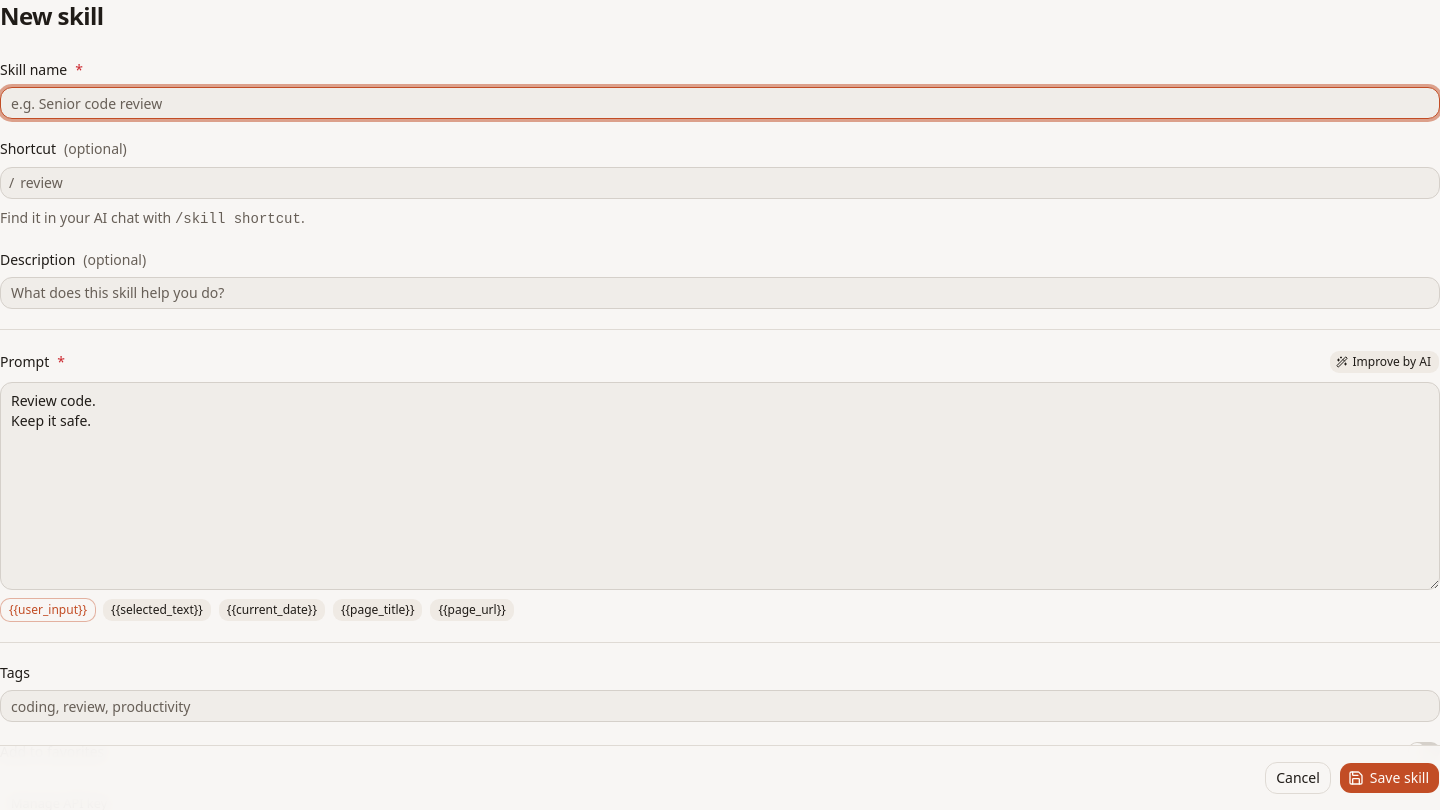
Scenario: Improve by AI editor flow › previews without mutating or saving, then applies only when requested
Click the button "Improve by AI": (1385, 362) [1330, 350, 1439, 374]
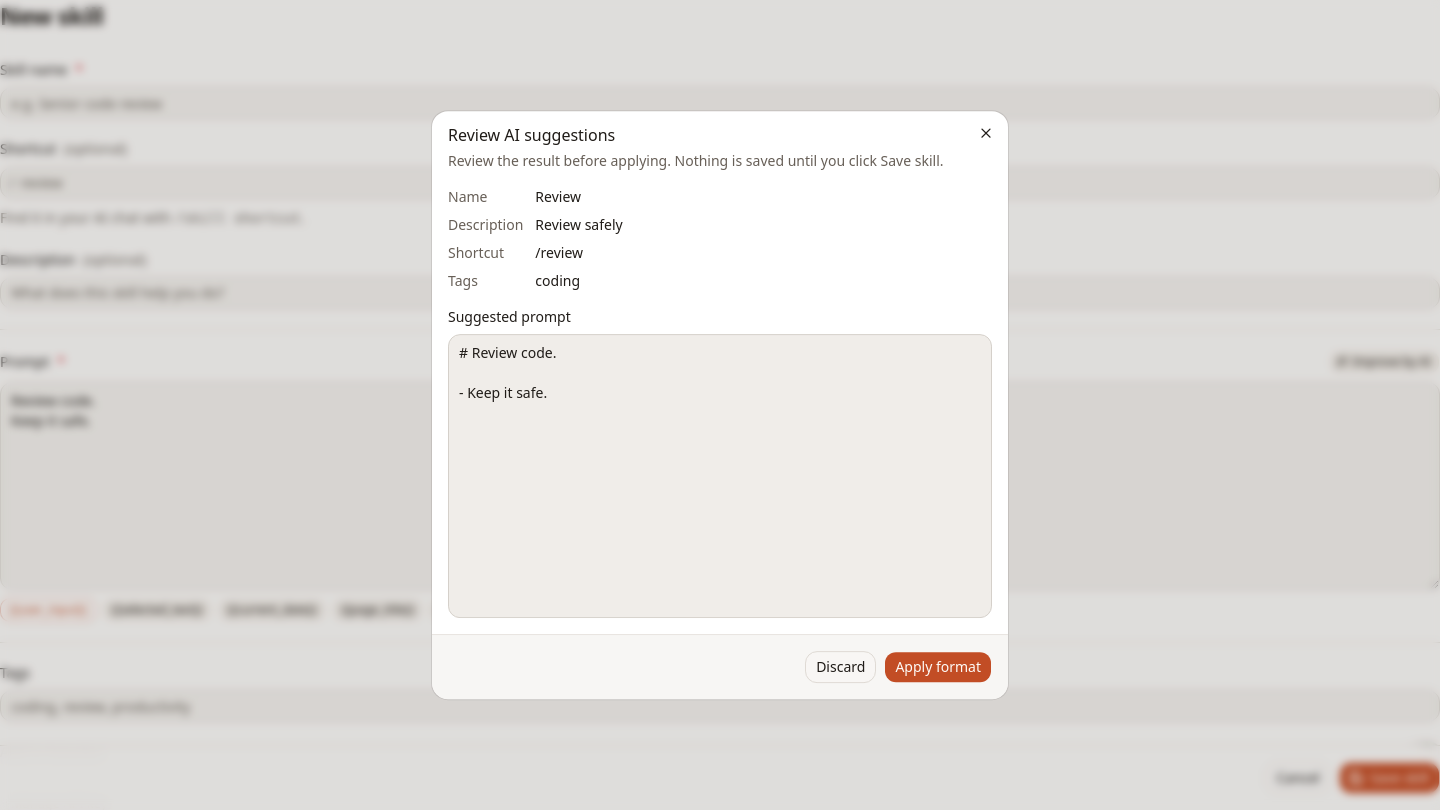
Now the dialog shows "Review AI suggestions", box [448, 124, 615, 146]
Click the button "Apply format": (938, 667) [884, 651, 992, 683]
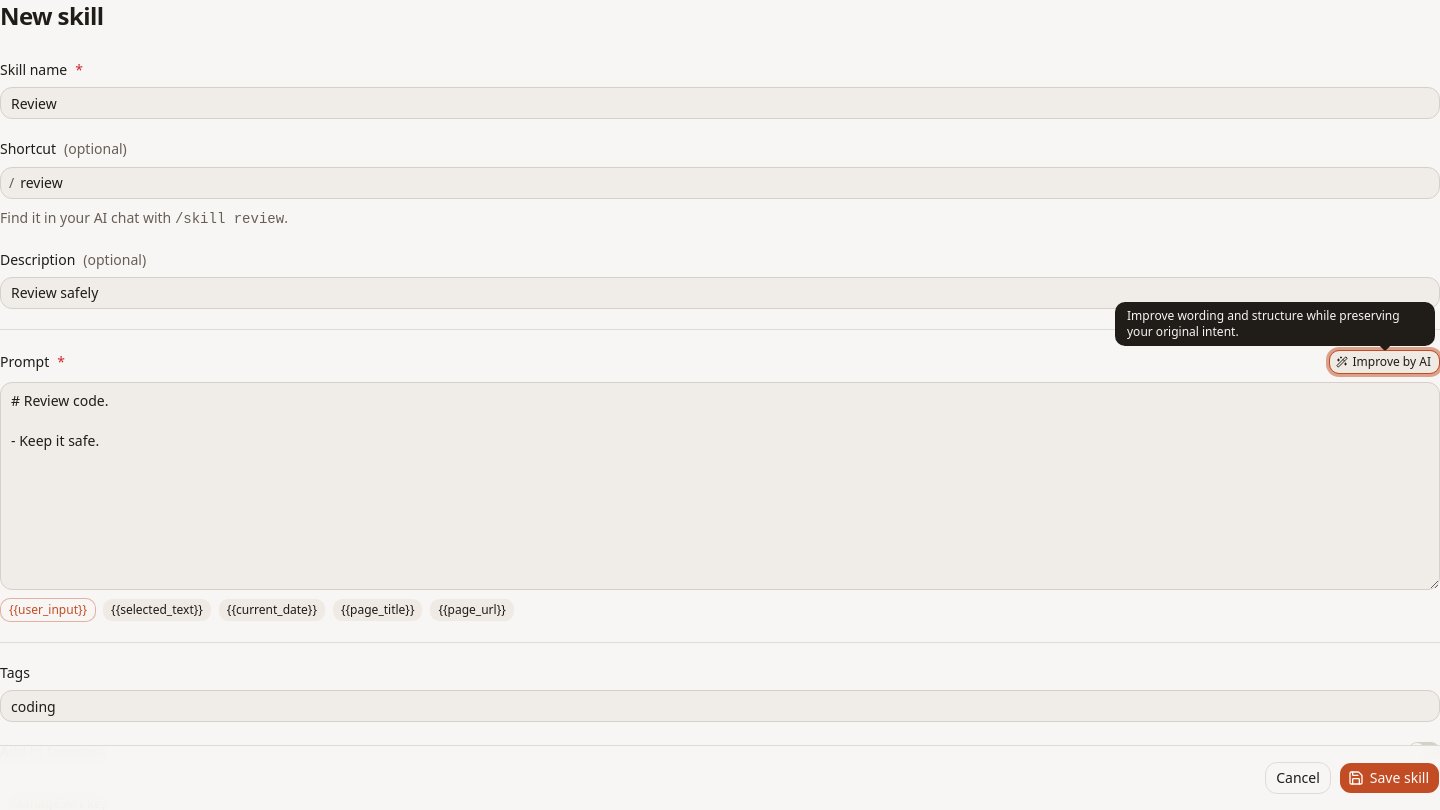
Now the field with id "skill-name" holds "Review", box [0, 87, 1439, 119]
Now the label with id "formatted-prompt" is gone
